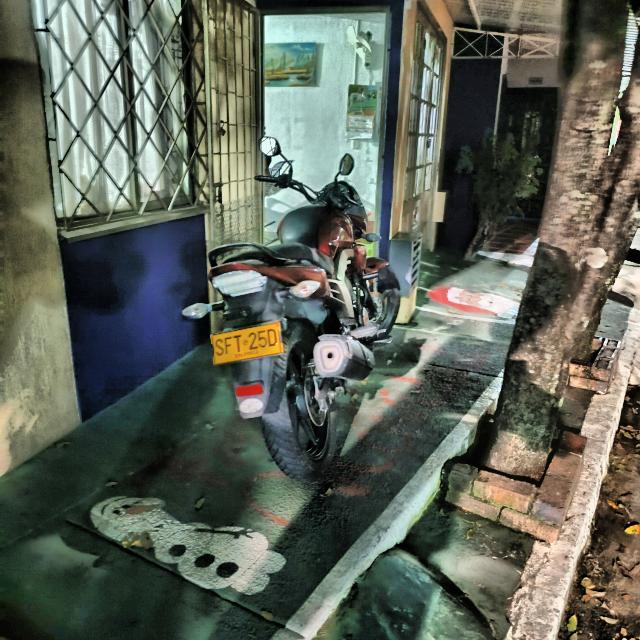plate: (211, 320, 284, 366)
